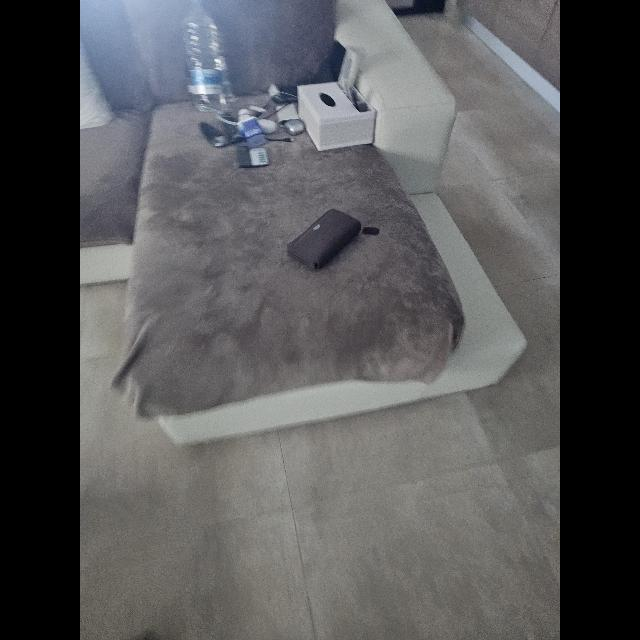Wallet: (286, 207, 364, 269)
